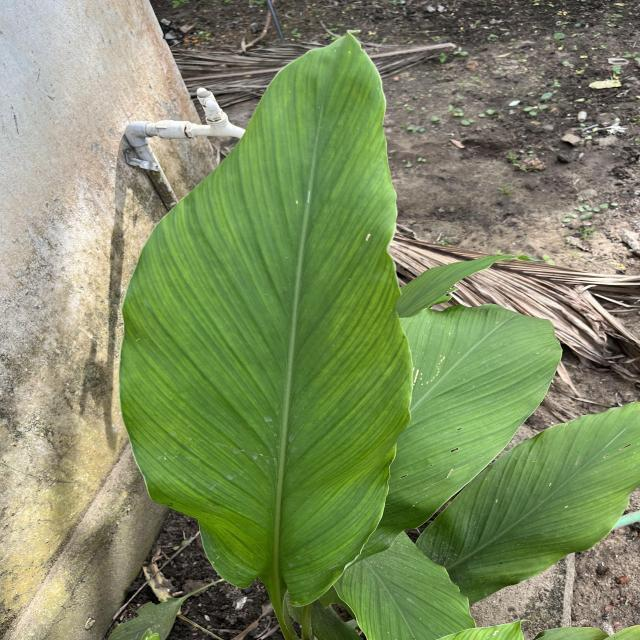Curcuma longa: (115, 19, 421, 614), (350, 300, 570, 570), (409, 392, 640, 612)
